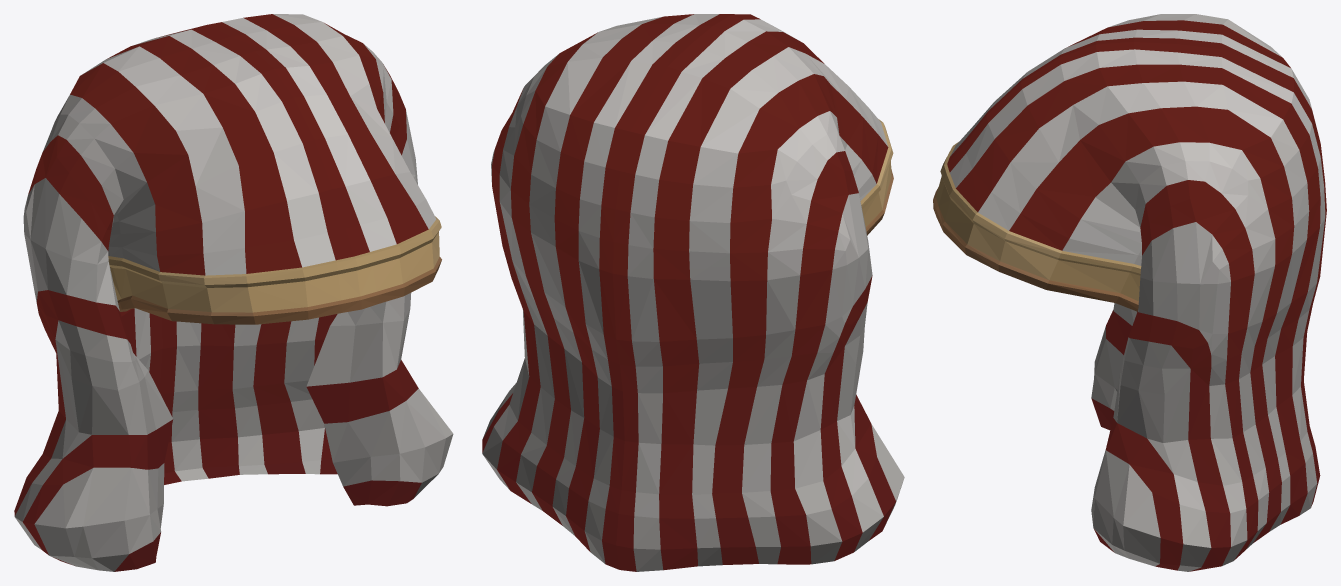
The model's file is ancientEgyptHatFemale.glb.
3 renders of one model, left to right at view 1: azimuth 30°, elevation 25°; view 2: azimuth 150°, elevation 25°; view 3: azimuth 270°, elevation 25°, orthographic. The views are drawn at different scales.
Visible parts, largest first — view 1: ancientEgyptHat; view 2: ancientEgyptHat; view 3: ancientEgyptHat.
Boxes of the visible parts, left/top/right/bottom form: ancientEgyptHat: left=14, top=14, right=453, bottom=571; ancientEgyptHat: left=482, top=14, right=904, bottom=571; ancientEgyptHat: left=933, top=14, right=1326, bottom=571.
Bounding box in the file's own units: 0.3829 × 0.4449 × 0.3423.
